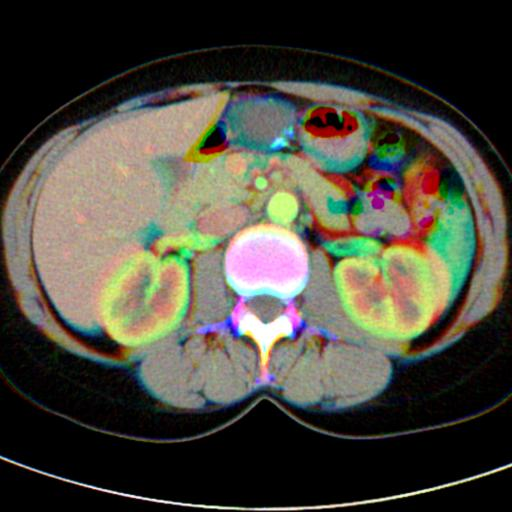Cyst: (222, 94, 296, 150), (152, 156, 191, 189)
